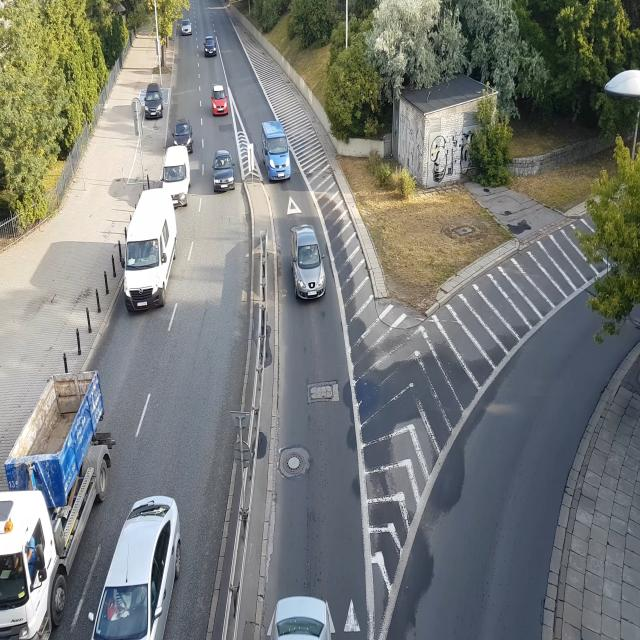car: (94, 500, 185, 640), (122, 193, 180, 309), (268, 590, 332, 640), (293, 226, 326, 300), (260, 122, 292, 184), (160, 144, 192, 206), (212, 150, 235, 193), (144, 85, 164, 118), (212, 85, 230, 115), (173, 120, 192, 148), (203, 38, 217, 58), (177, 20, 192, 37)
truck: (0, 370, 80, 640)
